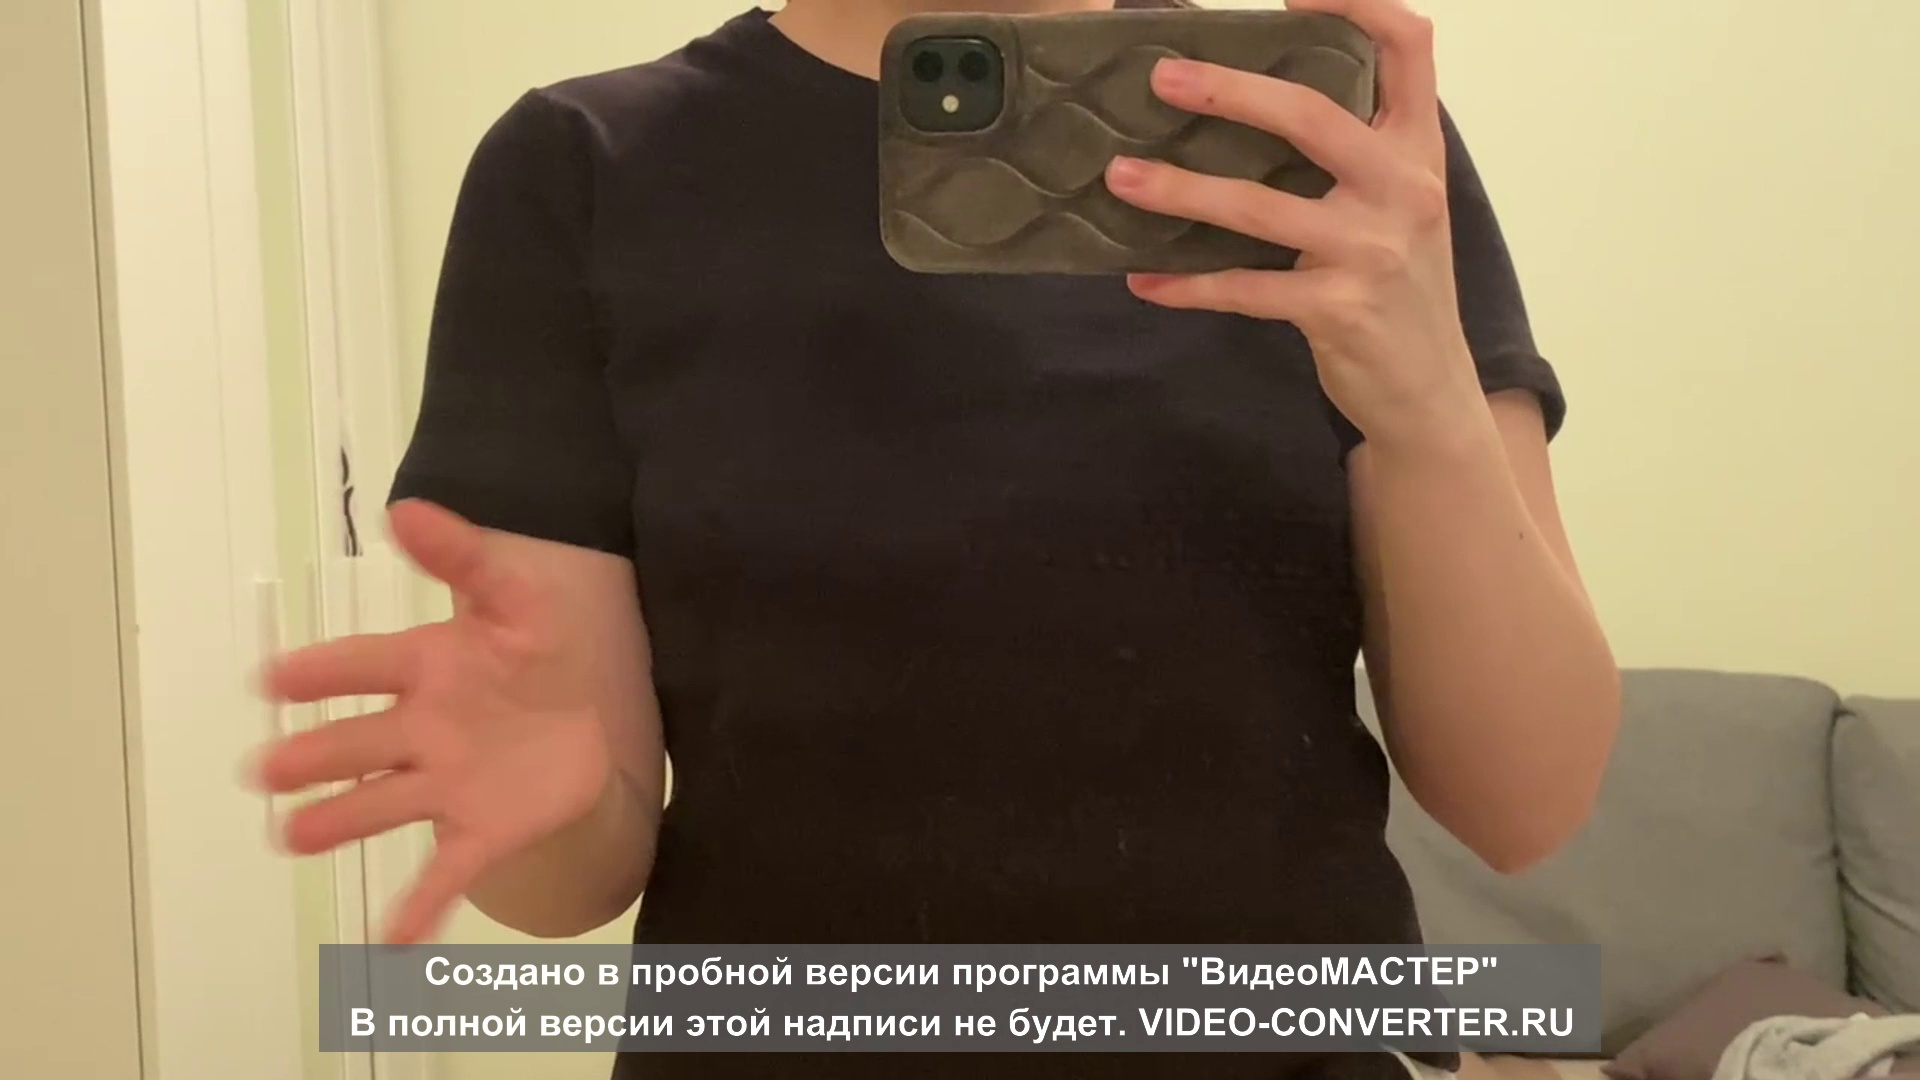Ладонь: (244, 500, 616, 938)
